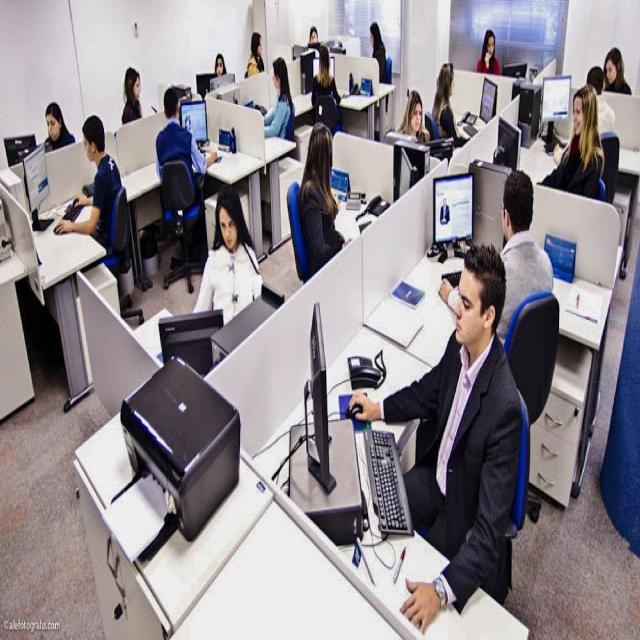person: (434, 226, 521, 585), (185, 172, 277, 357), (485, 144, 567, 340), (155, 63, 218, 235), (557, 54, 613, 231), (75, 100, 134, 261), (299, 117, 354, 272), (427, 21, 466, 185), (392, 46, 431, 204), (311, 35, 355, 152), (256, 44, 300, 157), (36, 67, 72, 188), (204, 27, 245, 119), (112, 41, 154, 127), (601, 27, 638, 121), (356, 8, 387, 95), (479, 12, 504, 84), (245, 13, 268, 88), (300, 11, 325, 63)
